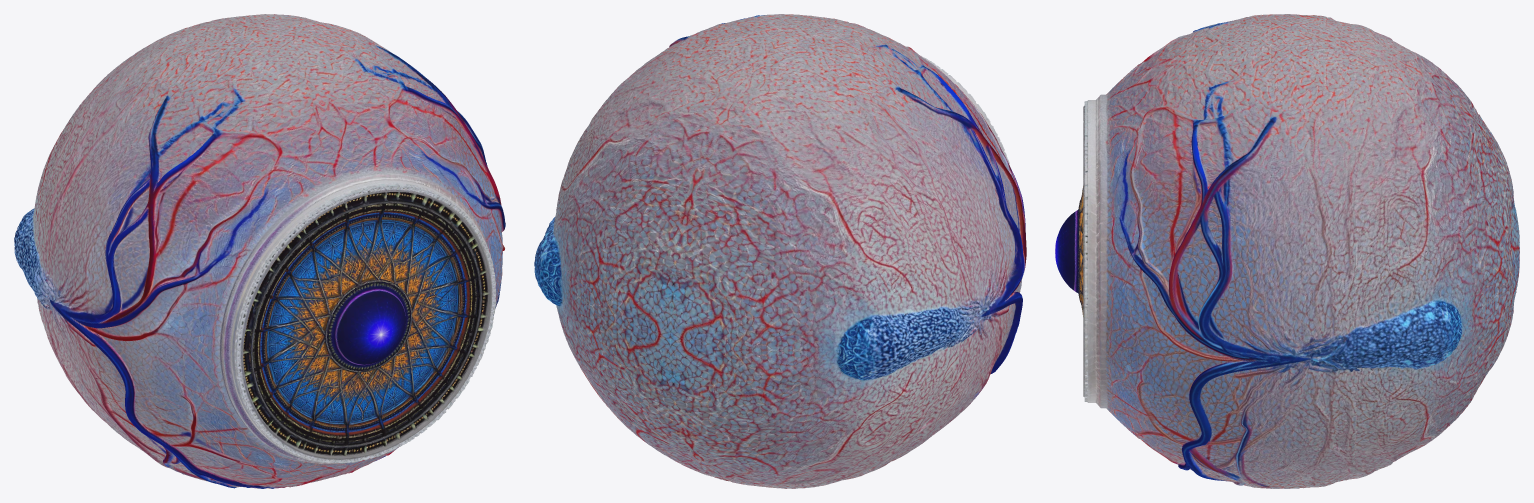
File: pneuma-eye.opt.glb
The picture shows the model from 3 angles, left to right: view 1: azimuth 30°, elevation 25°; view 2: azimuth 150°, elevation 25°; view 3: azimuth 270°, elevation 25°; orthographic projection.
Size of the model in its own units: 1.9 by 1.85 by 1.82.
Materials: 1 (1 with a texture image).
